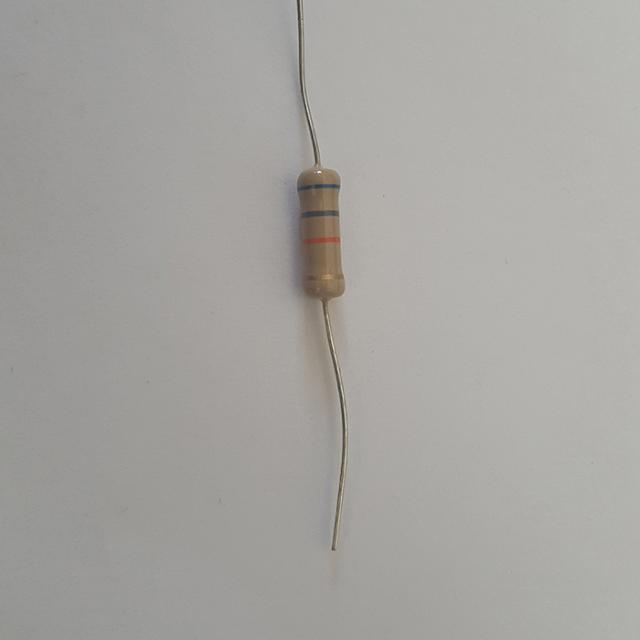blue: (302, 184, 337, 189)
gold: (306, 273, 341, 280)
grey: (304, 209, 336, 216)
orange: (306, 237, 340, 243)
resistor: (280, 151, 364, 314)
